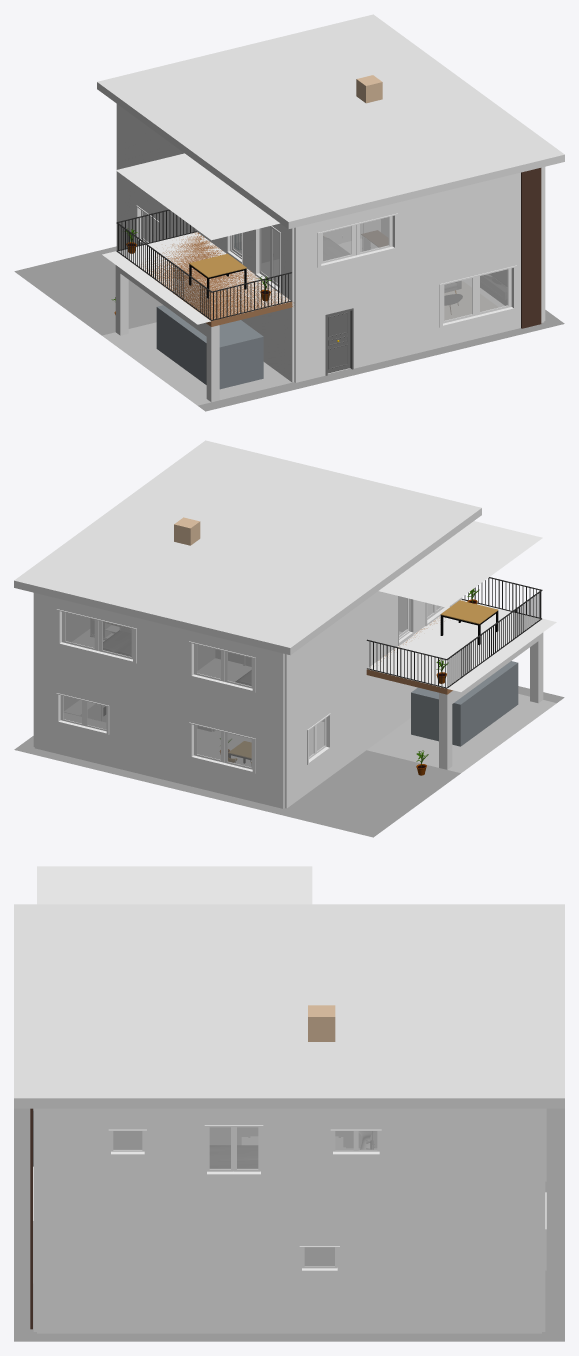
File: Casa_R04B_3D.obj
3 renders of one model, top to bottom at view 1: azimuth 30°, elevation 25°; view 2: azimuth 150°, elevation 25°; view 3: azimuth 270°, elevation 25°, orthographic. The views are drawn at different scales.
Parts seen in each view (by area): view 1: default_1074, wall_11_65, wall_3_17, ground_1, room_40_163, room_30_144, room_40_162, default_874, wall_4_23, wall_12_71, room_30_143, default_336 (+15 smaller); view 2: default_1074, wall_1_4, wall_9_52, ground_1, wall_12_71, wall_4_23, room_30_144, room_40_163, default_874, room_30_143, default_334, sweethome3d_window_pane_on_hinge_1_439 (+17 smaller); view 3: default_1074, wall_2_10, wall_10_58, ground_1, room_40_163, default_1075, 941, sweethome3d_window_pane_on_hinge_1_463, sweethome3d_window_pane_on_hinge_2_468, frame_457, default_336, sweethome3d_window_pane_on_hinge_1_236 (+1 smaller).
Boxes of the visible parts, x1,y1,x2,y2 form: default_1074: (97, 14, 564, 229); wall_11_65: (294, 167, 544, 306); wall_3_17: (294, 241, 544, 382); ground_1: (14, 246, 564, 411); room_40_163: (116, 153, 279, 240); room_30_144: (102, 232, 290, 324); room_40_162: (140, 232, 293, 326); default_874: (156, 305, 263, 389); wall_4_23: (116, 173, 294, 382); wall_12_71: (116, 104, 294, 307); room_30_143: (102, 322, 291, 405); default_336: (521, 168, 541, 328); default_1074: (14, 440, 481, 655); wall_1_4: (34, 667, 284, 808); wall_9_52: (34, 593, 284, 733); ground_1: (14, 686, 564, 837); wall_12_71: (284, 591, 462, 733); wall_4_23: (284, 675, 417, 808); room_30_144: (367, 599, 556, 691); room_40_163: (379, 521, 542, 607); default_874: (411, 661, 518, 746); room_30_143: (367, 694, 556, 772); default_334: (439, 704, 452, 769); sweethome3d_window_pane_on_hinge_1_439: (102, 622, 131, 656); default_1074: (14, 904, 564, 1108); wall_2_10: (37, 1217, 541, 1333); wall_10_58: (37, 1108, 541, 1225); ground_1: (14, 1108, 564, 1341); room_40_163: (37, 866, 312, 904); default_1075: (308, 1005, 335, 1041); 941: (210, 1145, 257, 1168); sweethome3d_window_pane_on_hinge_1_463: (237, 1127, 258, 1168); sweethome3d_window_pane_on_hinge_2_468: (209, 1127, 230, 1168); frame_457: (204, 1125, 263, 1175); default_336: (30, 1108, 32, 1329); sweethome3d_window_pane_on_hinge_1_236: (304, 1247, 334, 1266).
Size of the model in its own units: 1300 by 645 by 1200.
